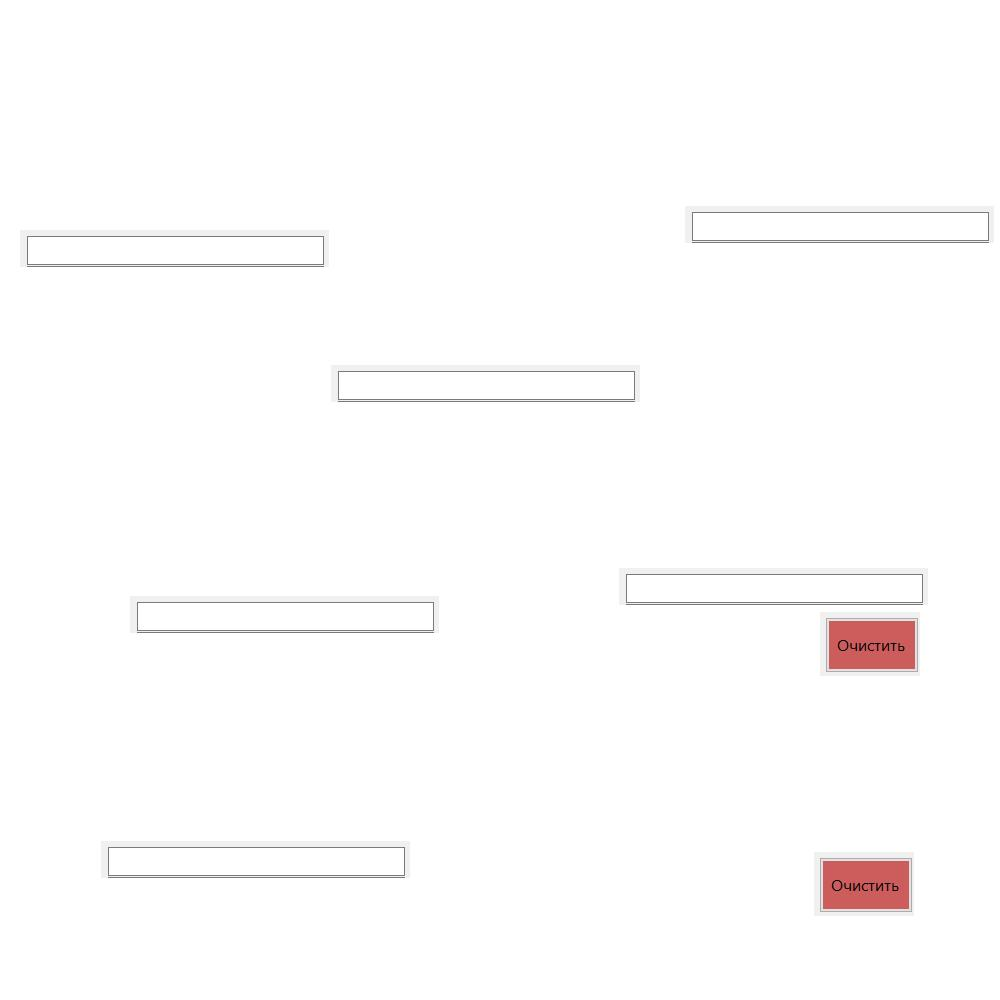Button: (820, 612, 920, 676), (814, 852, 914, 916)
EditText-: (20, 230, 329, 267), (685, 206, 994, 243), (619, 568, 928, 605), (130, 596, 439, 633), (331, 365, 640, 402), (101, 841, 410, 878)
